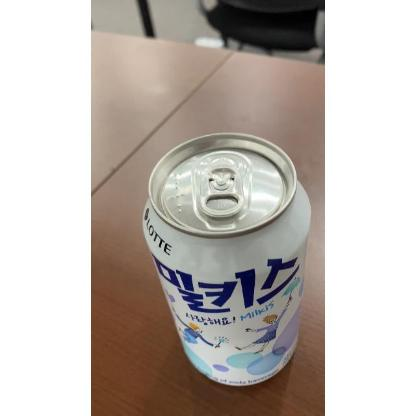Can: (138, 130, 315, 390)
